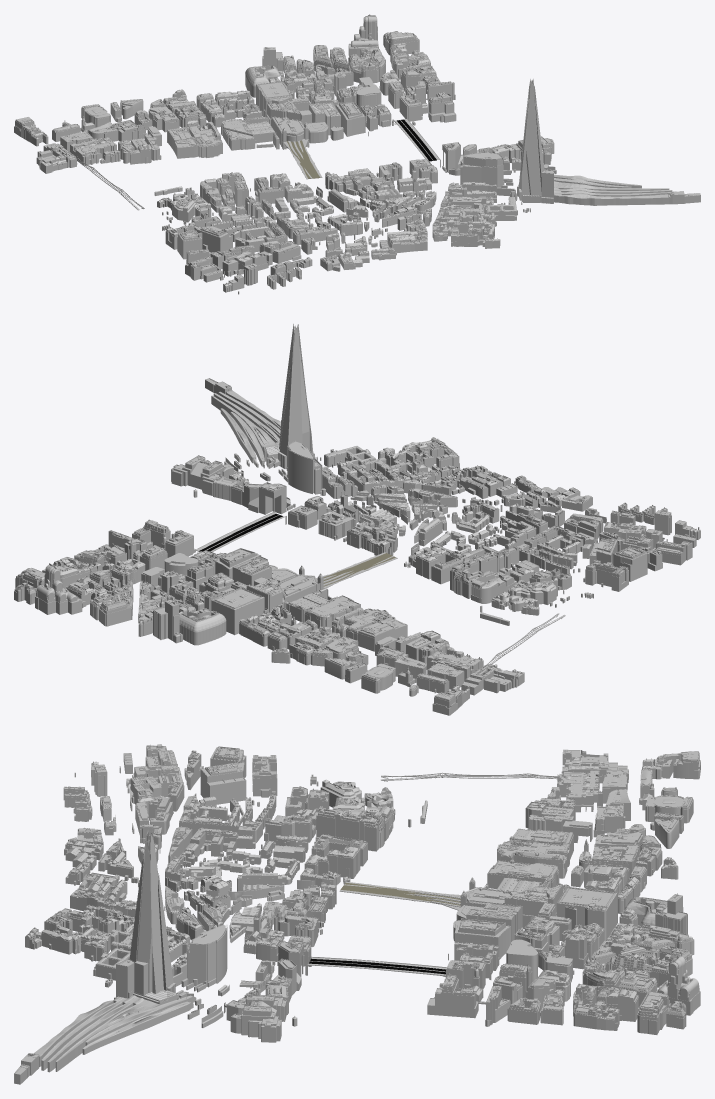
Rendered from TQ3280_Buildings_LOD_1_draco.glb.
The picture shows the model from 3 angles, top to bottom: view 1: azimuth 30°, elevation 25°; view 2: azimuth 150°, elevation 25°; view 3: azimuth 270°, elevation 25°; orthographic projection. The views are drawn at different scales.
Parts seen in each view (by area): view 1: TQ3280_Buildings; view 2: TQ3280_Buildings; view 3: TQ3280_Buildings.
Boxes of the visible parts, x1,y1,x2,y2 form: TQ3280_Buildings: (14, 14, 700, 294); TQ3280_Buildings: (14, 324, 700, 715); TQ3280_Buildings: (14, 744, 700, 1084).
Size of the model in its own units: 1278 by 315 by 1148.
Materials: 1 (1 with a texture image).
